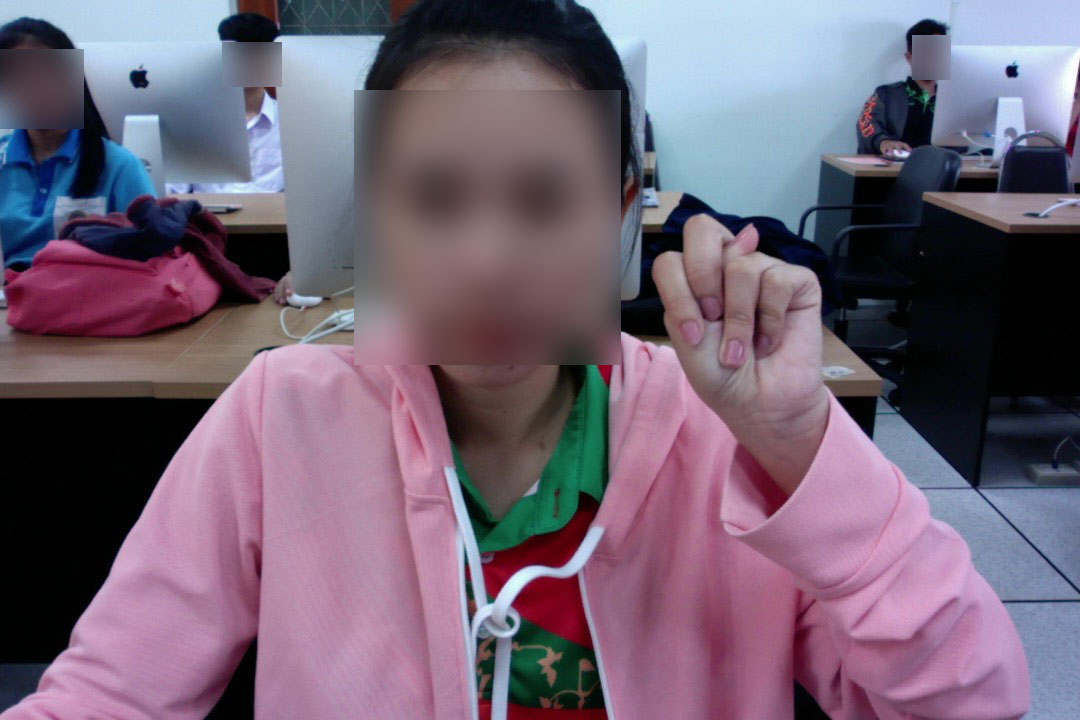nor: (645, 202, 831, 451)
